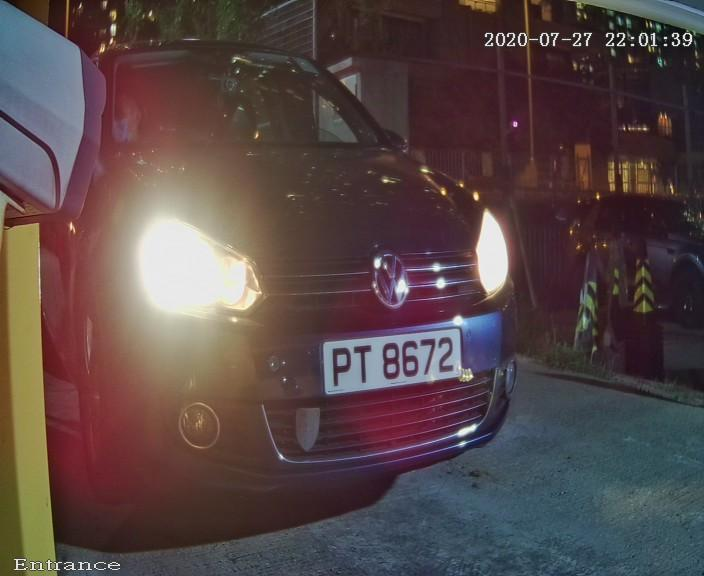privatecar: (60, 1, 557, 561)
